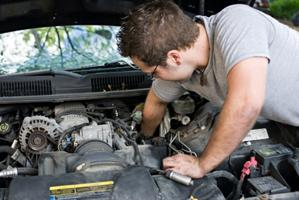person: (119, 1, 299, 180)
